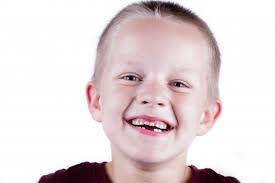person: (83, 1, 223, 167)
